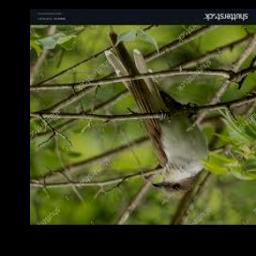Cuckoo: (105, 33, 207, 196)
